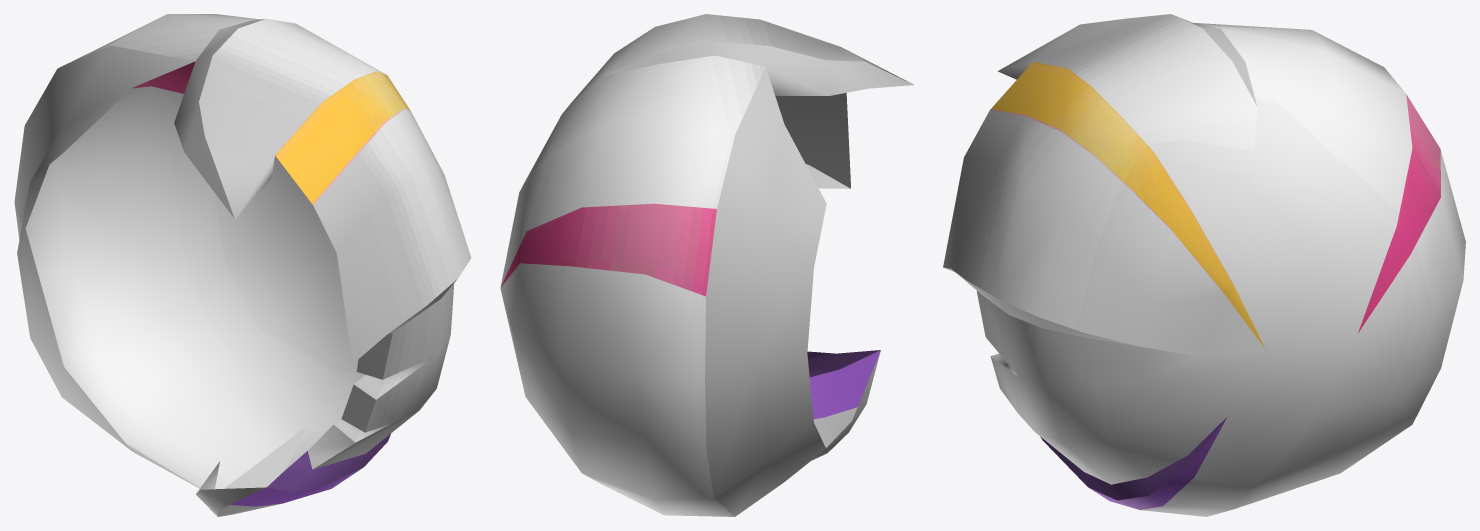
Rendered from hlmt_wig_mode.dae.
3 views of the same model, side by side, from view 1: azimuth 30°, elevation 25°; view 2: azimuth 150°, elevation 25°; view 3: azimuth 270°, elevation 25° (orthographic). The views are drawn at different scales.
Visible parts, largest first — view 1: hlmt_wig_mode; view 2: hlmt_wig_mode; view 3: hlmt_wig_mode.
Part boxes in pixels (<box>): hlmt_wig_mode: <box>14,14,471,516</box>; hlmt_wig_mode: <box>500,14,913,516</box>; hlmt_wig_mode: <box>943,14,1465,516</box>.
Size of the model in its own units: 20.34 by 26.64 by 26.67.
Materials: 2 (2 with a texture image).
